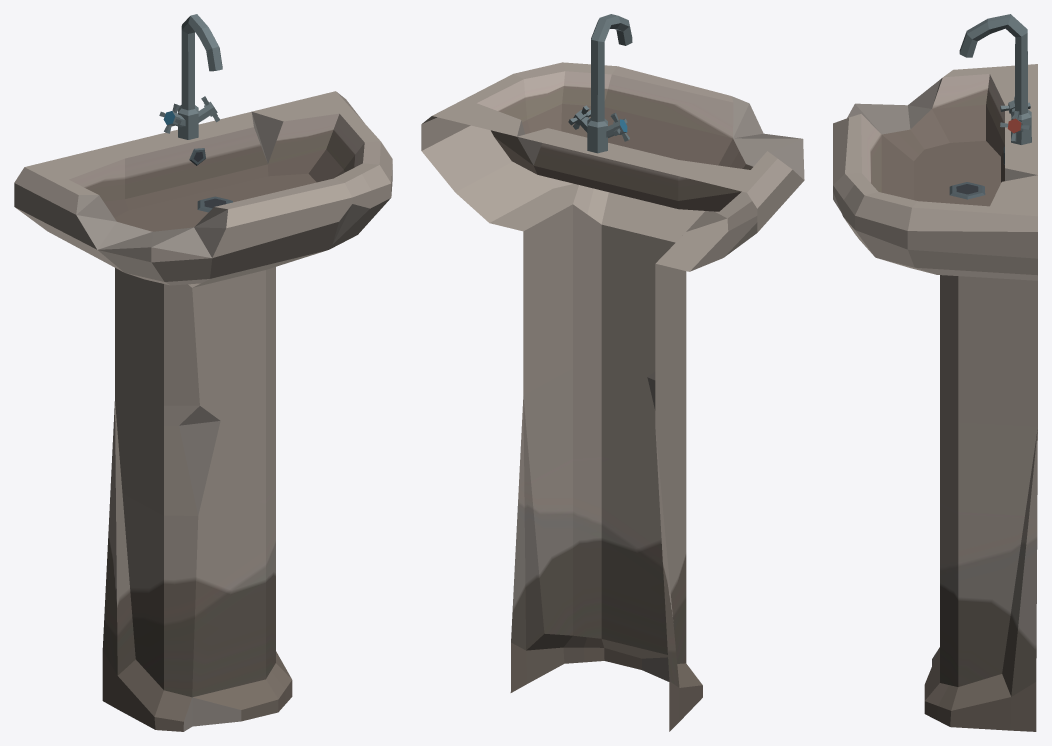
The model's file is SM_Wash_Basin.fbx.
The picture shows the model from 3 angles, left to right: view 1: azimuth 30°, elevation 25°; view 2: azimuth 150°, elevation 25°; view 3: azimuth 270°, elevation 25°; orthographic projection.
Parts seen in each view (by area): view 1: SM_Wash_Basin; view 2: SM_Wash_Basin; view 3: SM_Wash_Basin.
Boxes of the visible parts, box(x1,y1,x2,y2) form: SM_Wash_Basin: box(14, 14, 392, 731); SM_Wash_Basin: box(421, 14, 804, 731); SM_Wash_Basin: box(833, 14, 1037, 731).
Bounding box in the file's own units: 73.68 × 143 × 39.29.
